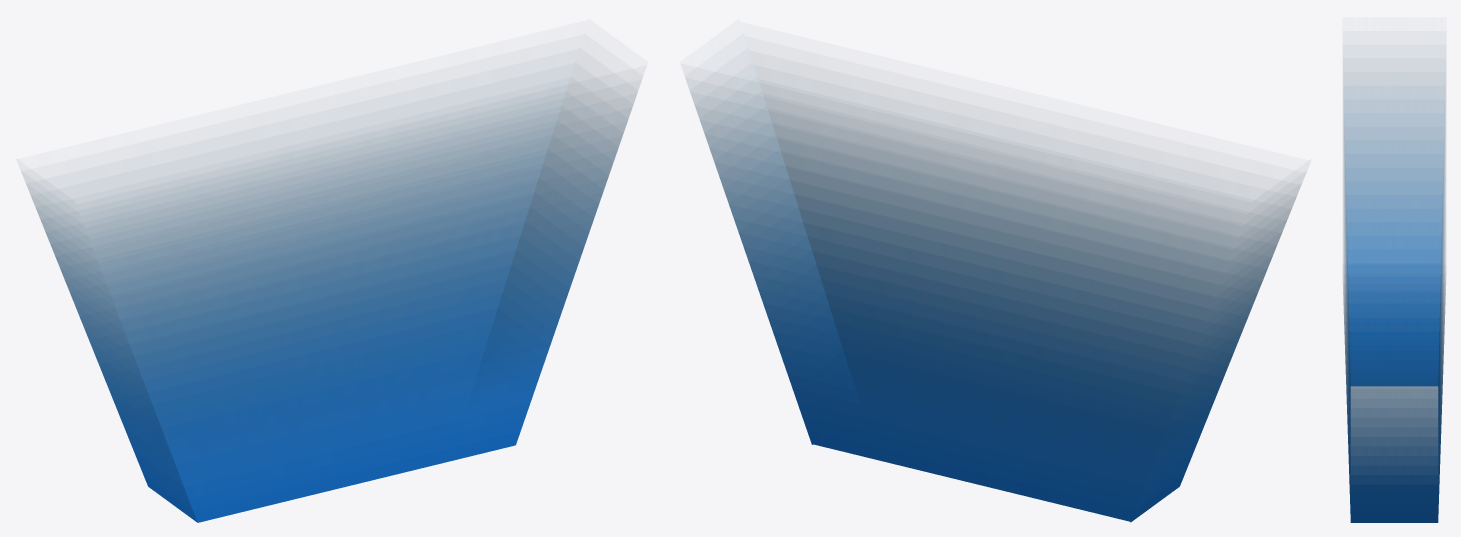
Rendered from PelagicIIExploration_Alpha_87.glb.
3 renders of one model, left to right at view 1: azimuth 30°, elevation 25°; view 2: azimuth 150°, elevation 25°; view 3: azimuth 270°, elevation 25°, orthographic. The views are drawn at different scales.
Parts seen in each view (by area): view 1: PelagicIIExploration_Alpha_87; view 2: PelagicIIExploration_Alpha_87; view 3: PelagicIIExploration_Alpha_87.
Boxes of the visible parts, bbox=[...] form: PelagicIIExploration_Alpha_87: bbox=[22, 62, 640, 522]; PelagicIIExploration_Alpha_87: bbox=[686, 62, 1305, 522]; PelagicIIExploration_Alpha_87: bbox=[1343, 58, 1445, 522].
Bounding box in the file's own units: 16.75 × 10 × 3.
1 material, 1 textured.
